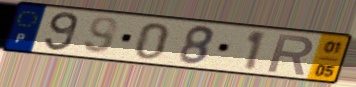0: (133, 21, 173, 61)
1: (243, 29, 267, 72)
8: (177, 24, 216, 66)
9: (82, 16, 121, 56), (43, 11, 80, 52)
R: (266, 32, 316, 77)
